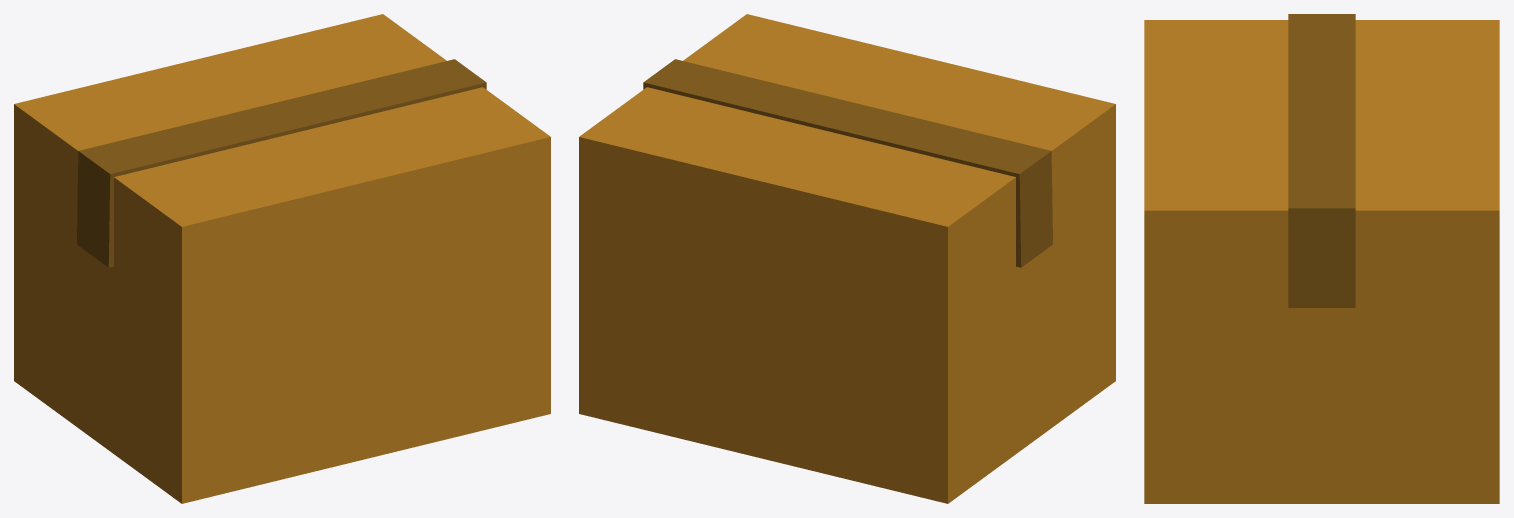
The model's file is closed_cardboard_box.fbx.
The picture shows the model from 3 angles, left to right: view 1: azimuth 30°, elevation 25°; view 2: azimuth 150°, elevation 25°; view 3: azimuth 270°, elevation 25°; orthographic projection. The views are drawn at different scales.
Parts seen in each view (by area): view 1: closed cardboard box; view 2: closed cardboard box; view 3: closed cardboard box.
Part boxes in pixels (x1=…): closed cardboard box: x1=14, y1=14, x2=550, y2=503; closed cardboard box: x1=579, y1=14, x2=1115, y2=503; closed cardboard box: x1=1144, y1=14, x2=1499, y2=503.
Bounding box in the file's own units: 238 × 169 × 183.
